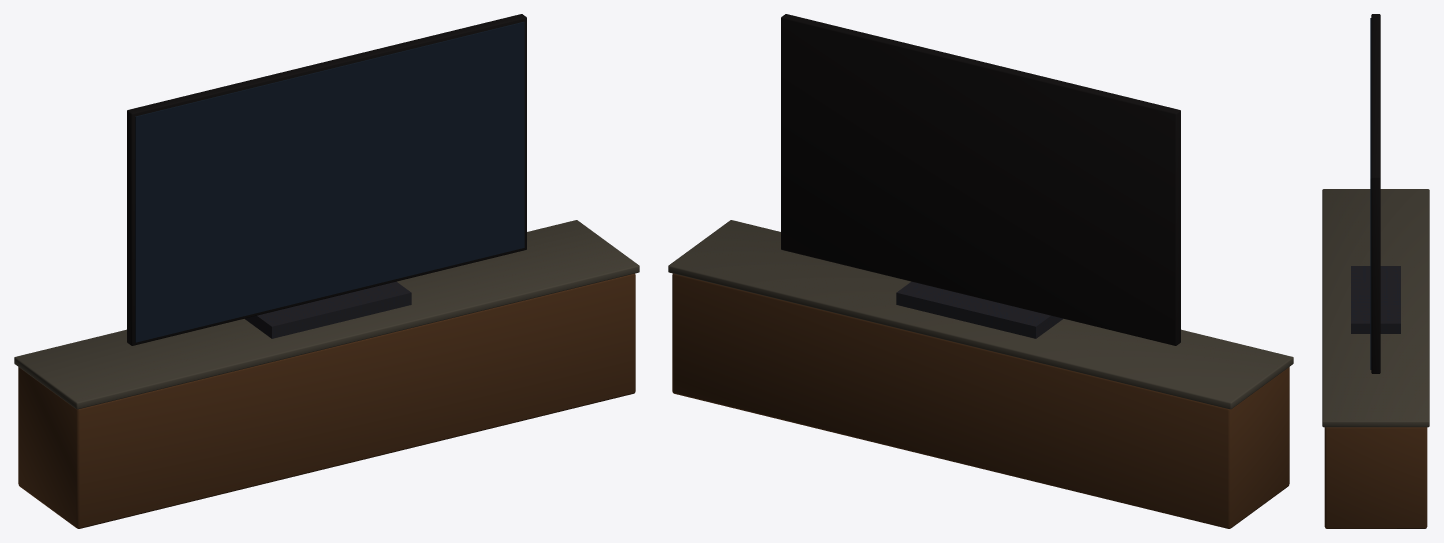
Rendered from fur_tv_75.glb.
The picture shows the model from 3 angles, left to right: view 1: azimuth 30°, elevation 25°; view 2: azimuth 150°, elevation 25°; view 3: azimuth 270°, elevation 25°; orthographic projection. The views are drawn at different scales.
Visible parts, largest first — view 1: FUR_tv_75; view 2: FUR_tv_75; view 3: FUR_tv_75.
Boxes of the visible parts, x1,y1,x2,y2 form: FUR_tv_75: (14,14,639,528); FUR_tv_75: (668,14,1293,528); FUR_tv_75: (1322,14,1429,528).
Size of the model in its own units: 2.42 by 1.55 by 0.47.
1 material, 1 textured.
